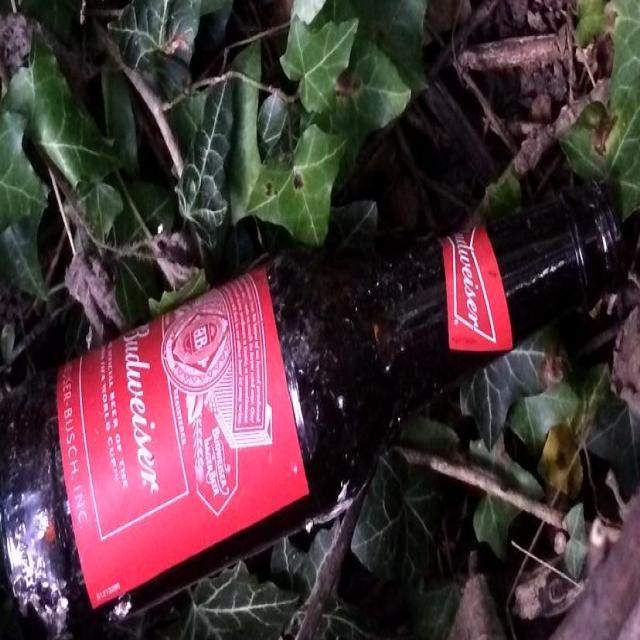Glass: (0, 164, 635, 640)
